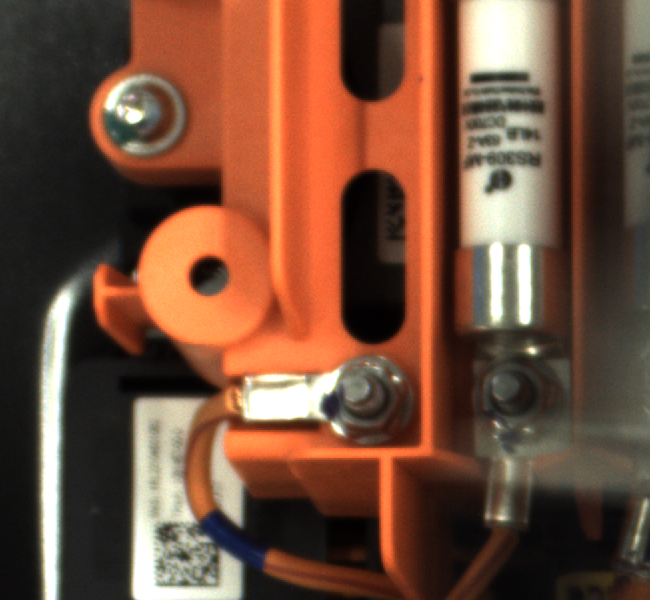screw_m: (86, 67, 206, 169)
screw_s: (329, 348, 413, 449), (472, 359, 564, 437)
